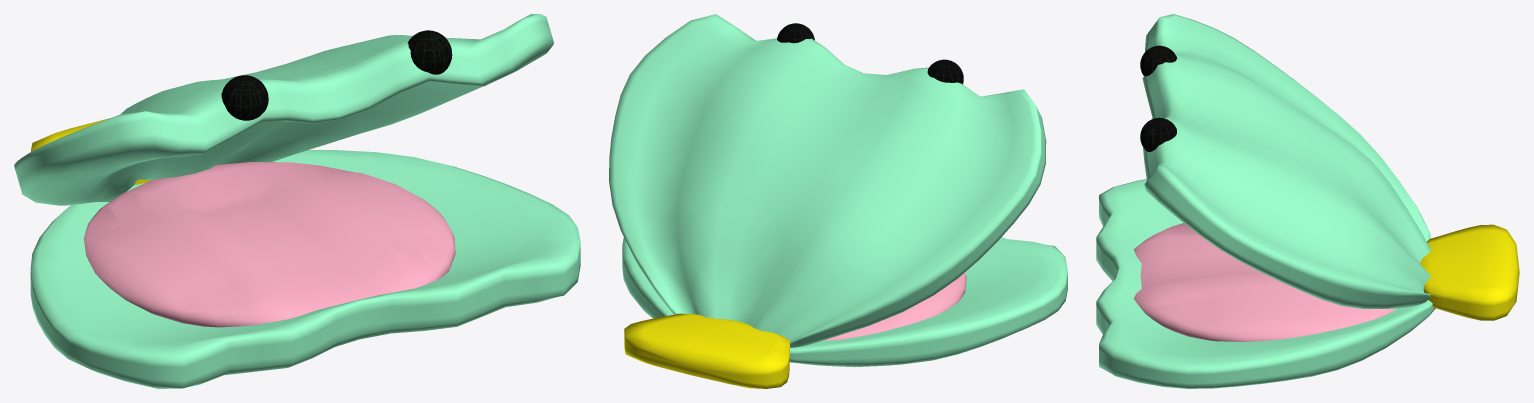
Rendered from gari.fbx.
3 renders of one model, left to right at view 1: azimuth 30°, elevation 25°; view 2: azimuth 150°, elevation 25°; view 3: azimuth 270°, elevation 25°, orthographic. The views are drawn at different scales.
Visible parts, largest first — view 1: Box001, Sphere001, Box002, Sphere003, Box003; view 2: Box002, Box001, Box003, Sphere001, Sphere003; view 3: Box002, Box001, Sphere001, Box003, Sphere003.
Part boxes in pixels (x1,y1,x2,y2): Box001: (30,150,580,388); Sphere001: (83,162,455,327); Box002: (14,14,553,205); Sphere003: (221,30,452,120); Box003: (31,118,150,184); Box002: (609,14,1046,347); Box001: (622,237,1067,367); Box003: (624,313,789,388); Sphere001: (823,272,966,340); Sphere003: (777,23,963,84); Box002: (1142,14,1431,308); Box001: (1096,179,1435,388); Sphere001: (1133,223,1396,341); Box003: (1420,224,1519,320); Sphere003: (1140,45,1177,151).
Bounding box in the file's own units: 67.88 × 39.21 × 61.84.
